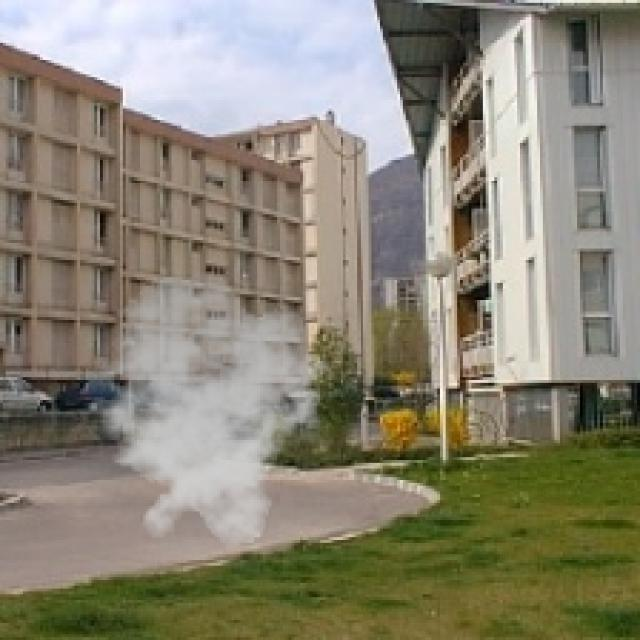Smoke: (71, 272, 338, 548)
